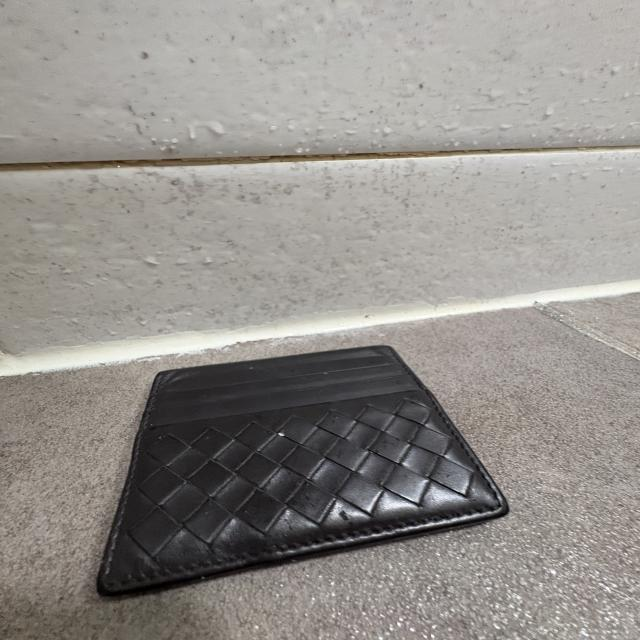wallet: (93, 343, 511, 603)
